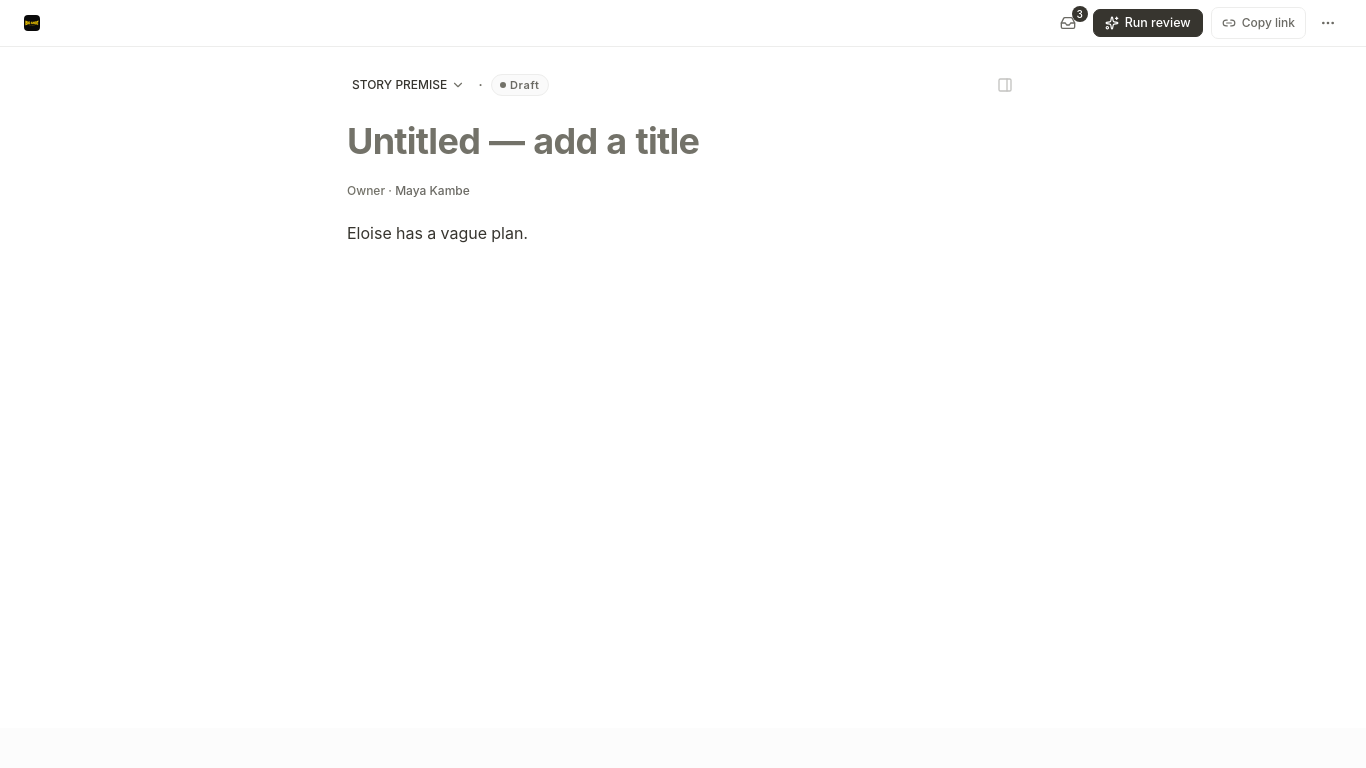
Test: DocumentPage apply (AI rewrite) — accept / discard › Discard keeps the original review showing alongside the restored body
Click the button "Run review" at (1148, 23), box [1093,9,1203,37]
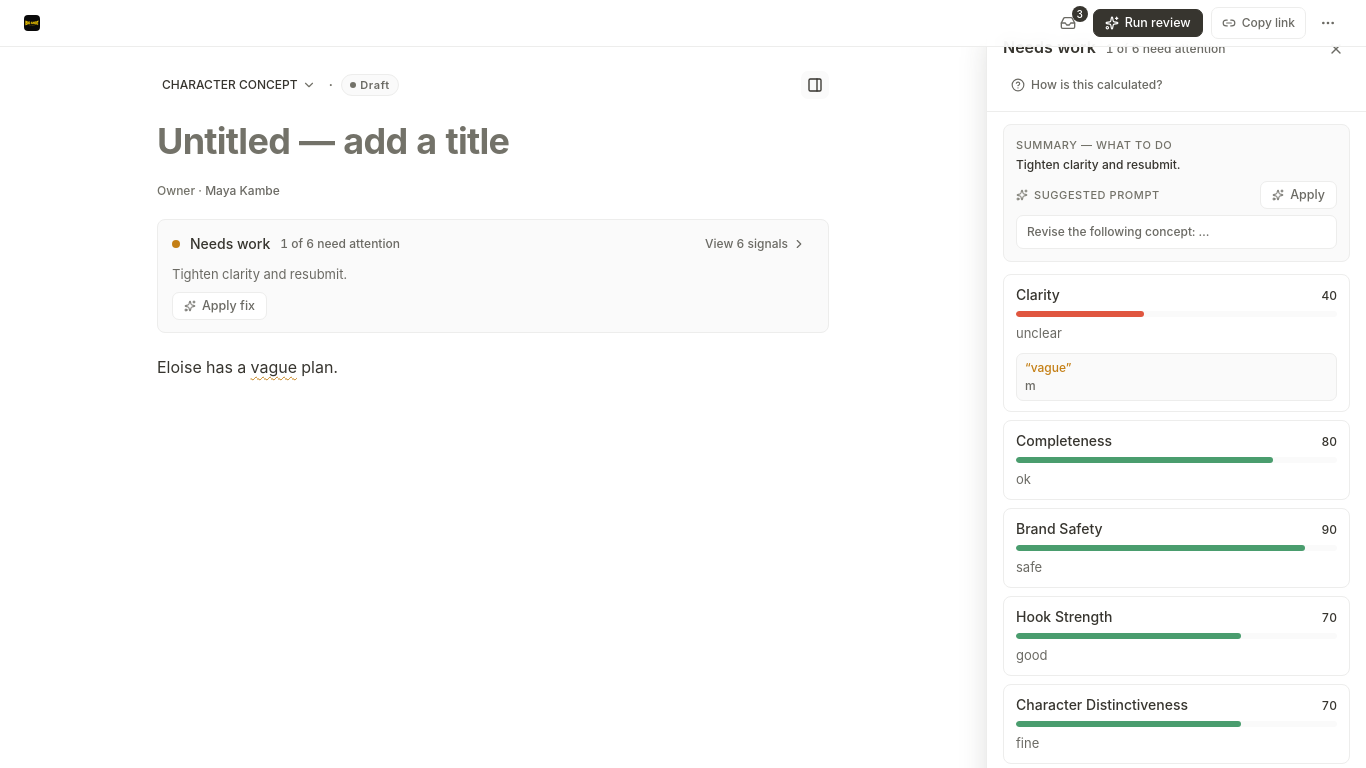
Click the button with aria-label "apply suggested prompt" at (1299, 195), box [1260,181,1337,209]
(page scrolled)
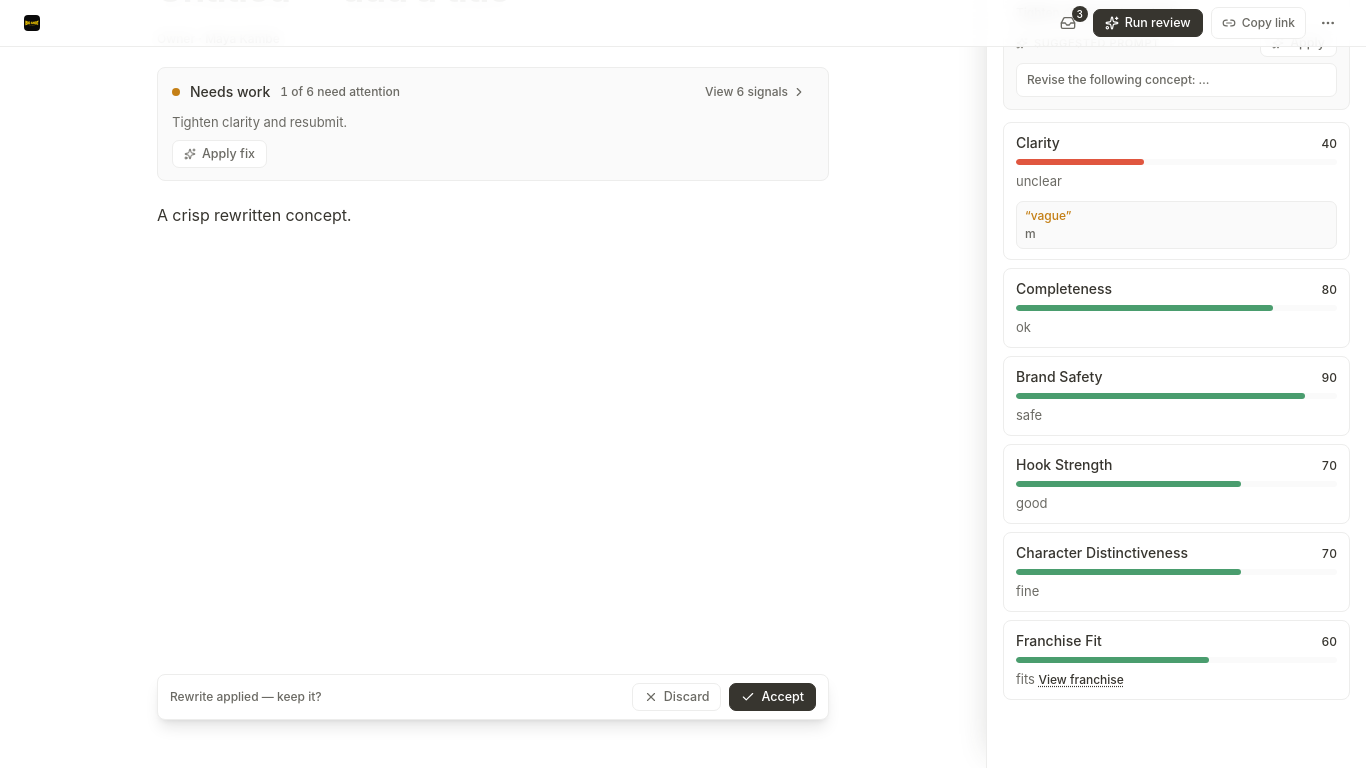
Click the button "Discard" at (677, 697), box [632,683,722,711]
(page scrolled)
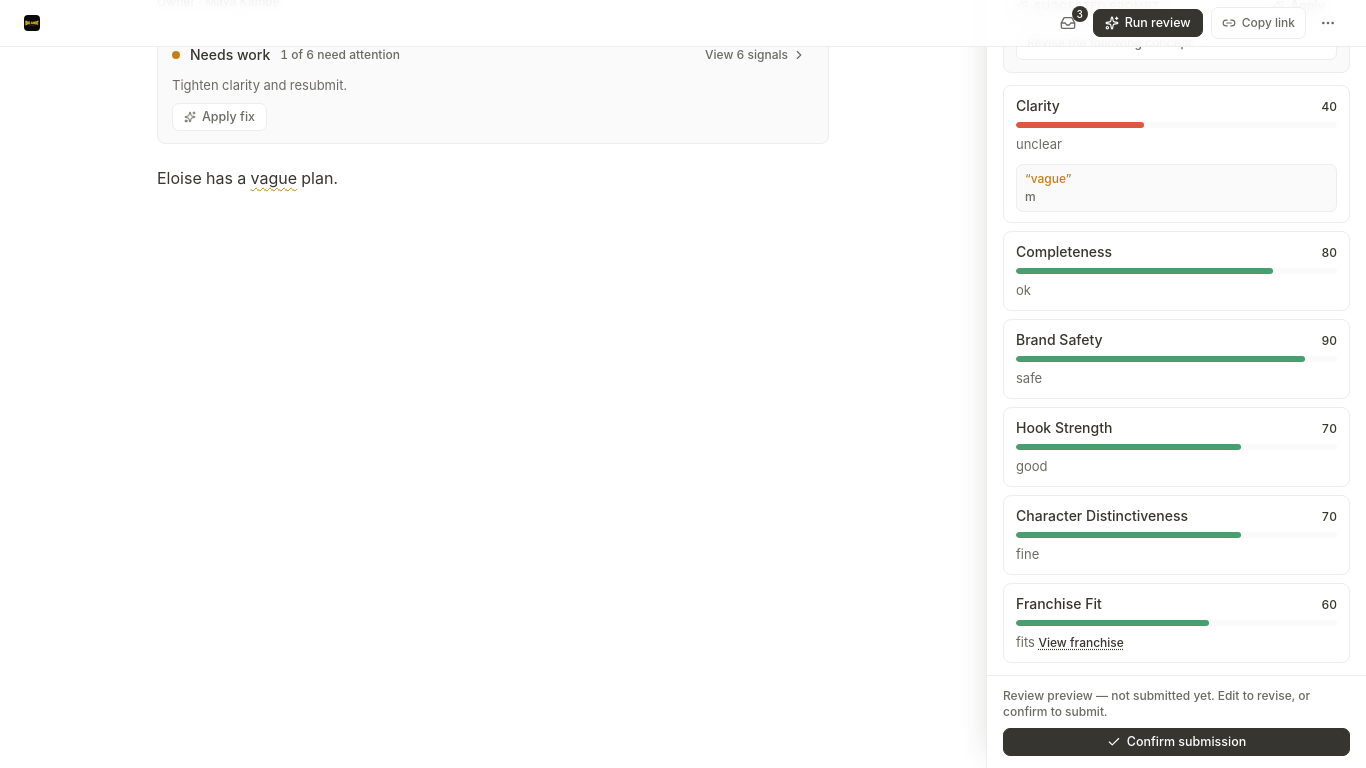
Now the button "Discard" is gone
Now the button "Confirm submission" is shown, box [1003,728,1350,756]
